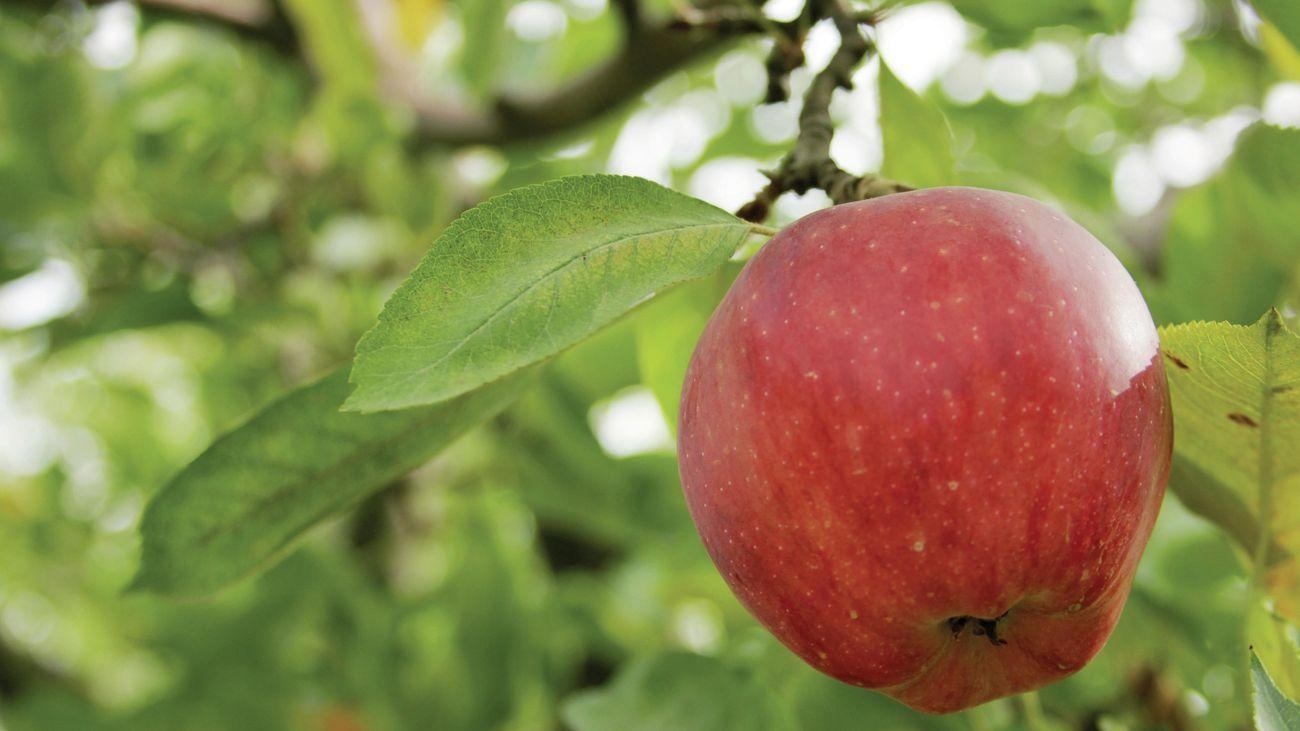apple: (681, 179, 1177, 699)
